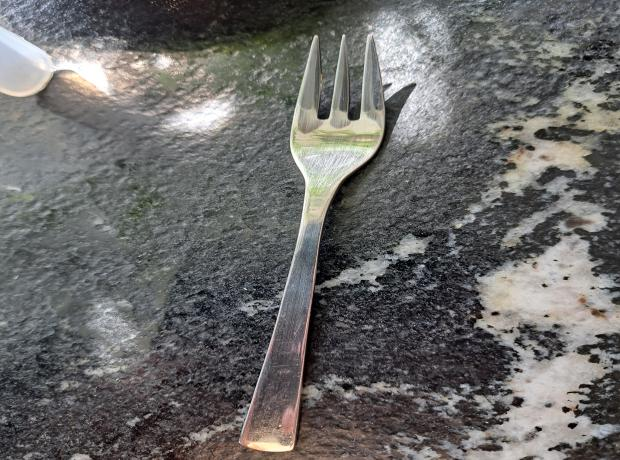metal: (234, 32, 391, 451)
